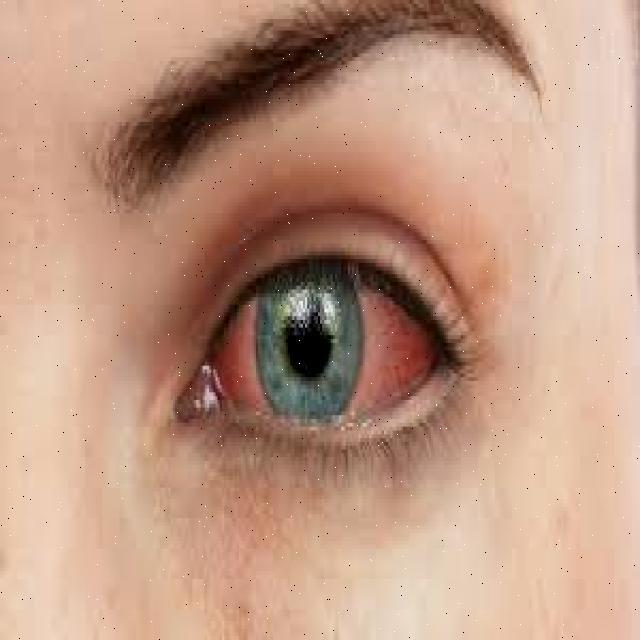Conjunctivitis: (183, 278, 442, 434)
